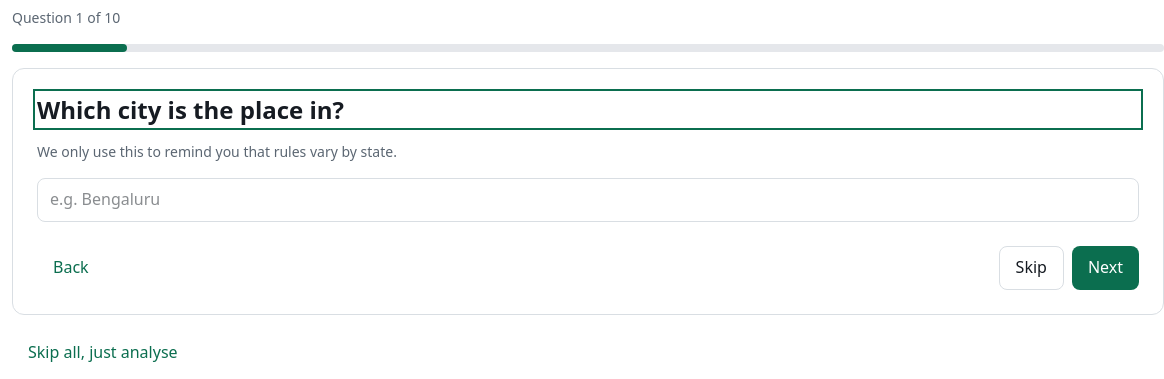
Interview › keeps unreadable money on screen with a linked error and focus on the field
Click the button "Skip" at (1031,268), box x1=999 y1=246 x2=1064 y2=290
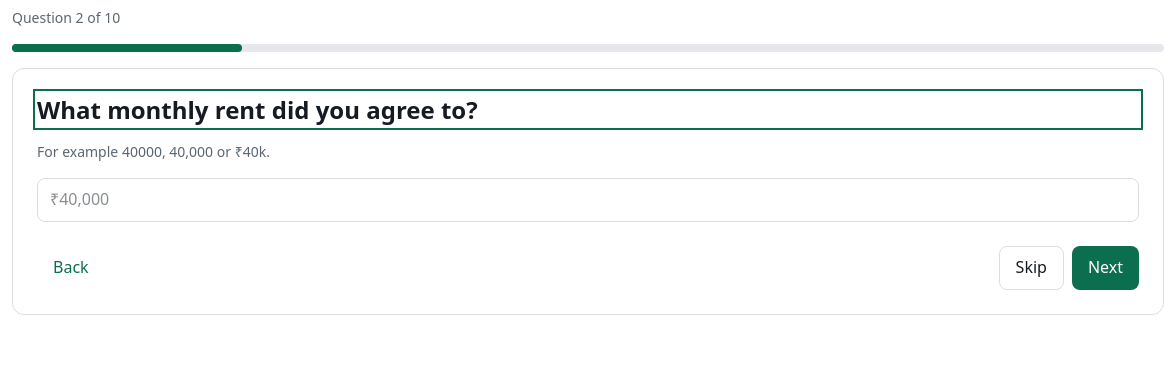
Type "lots" into the field at (588,200), box x1=37 y1=178 x2=1139 y2=222
Then press Enter
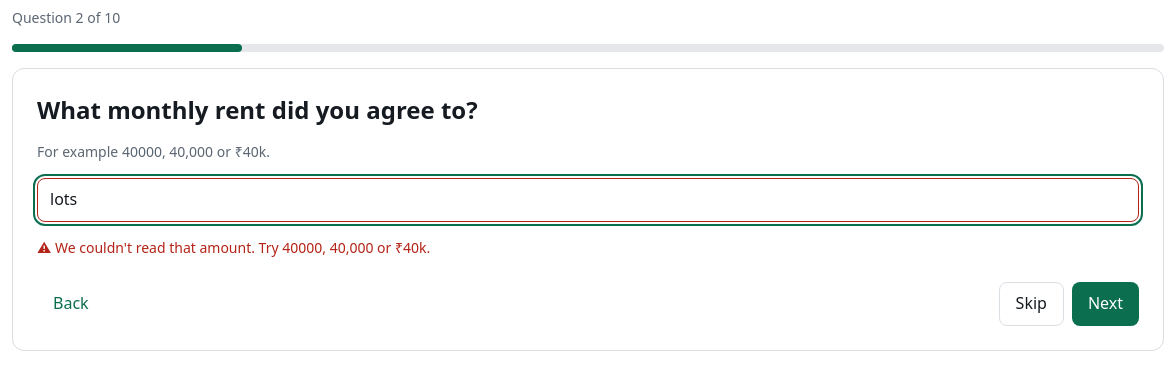
Now the heading reads "What monthly rent did you agree to?", box x1=37 y1=93 x2=478 y2=126
Now the message shows "We couldn't read that amount. Try 40000, 40,000 or ₹40k.", box x1=55 y1=238 x2=430 y2=257
